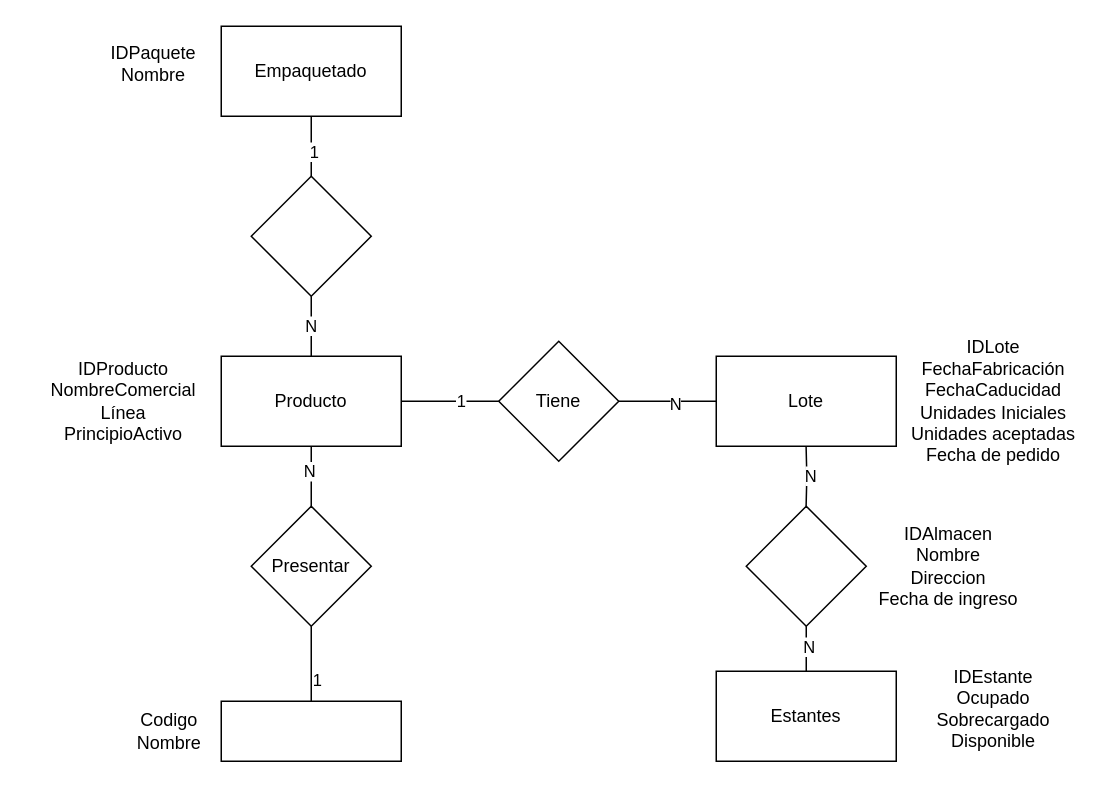
This 1116x788 diagram has some shape labels left out. The centre of each missing label's shape, as x and y in pixels:
Almacena: point (805, 565)
Paquete: point (310, 235)
Tipo: point (310, 730)
